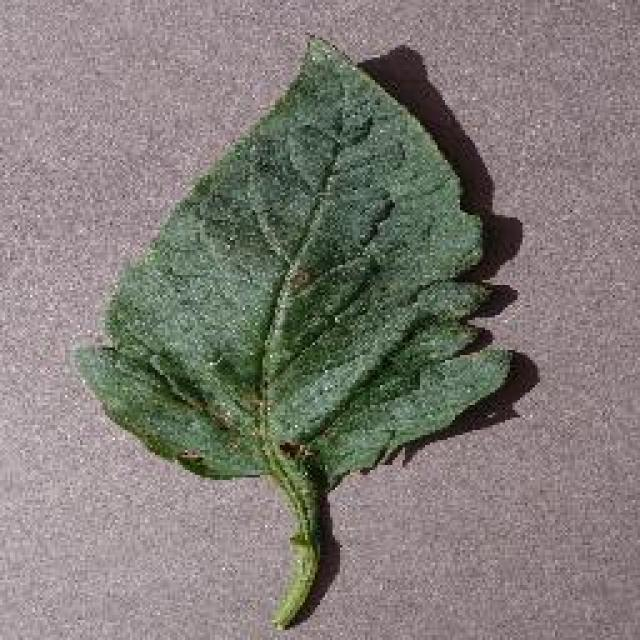Tomato Septoria spot leaf: (69, 34, 514, 486)
